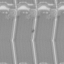dust: (31, 28, 34, 33)
